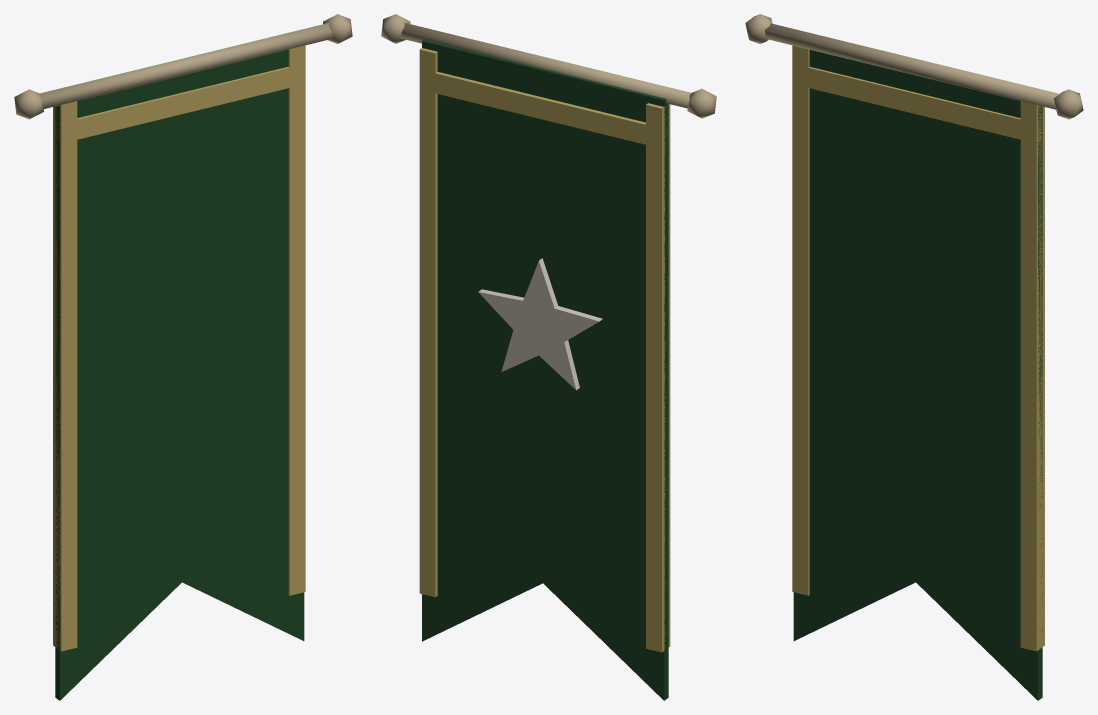
The model's file is brain_suckler_banner_v0.glb.
The picture shows the model from 3 angles, left to right: view 1: azimuth 30°, elevation 25°; view 2: azimuth 150°, elevation 25°; view 3: azimuth 330°, elevation 25°; orthographic projection.
Parts seen in each view (by area): view 1: brain_suckler_banner_v0; view 2: brain_suckler_banner_v0; view 3: brain_suckler_banner_v0.
Boxes of the visible parts, <box> form: brain_suckler_banner_v0: <box>14,14,352,700</box>; brain_suckler_banner_v0: <box>381,14,716,700</box>; brain_suckler_banner_v0: <box>745,14,1083,700</box>.
Size of the model in its own units: 1.04 by 1.84 by 0.0933.
